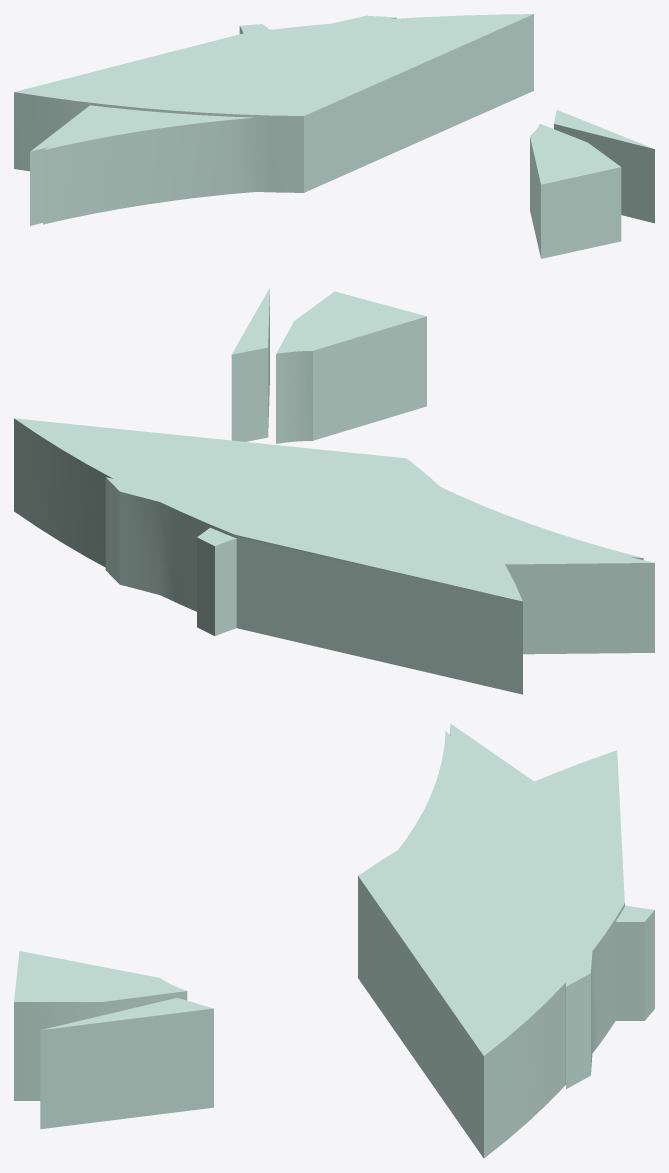
The picture shows the model from 3 angles, top to bottom: view 1: azimuth 30°, elevation 25°; view 2: azimuth 150°, elevation 25°; view 3: azimuth 270°, elevation 25°; orthographic projection. The views are drawn at different scales.
Visible parts, largest first — view 1: Renderer Node; view 2: Renderer Node; view 3: Renderer Node.
Part boxes in pixels (x1,y1,x2,y2): Renderer Node: [14, 14, 654, 258]; Renderer Node: [14, 288, 654, 694]; Renderer Node: [14, 723, 654, 1158].
Bounding box in the file's own units: 1.65 × 0.2344 × 1.33.
